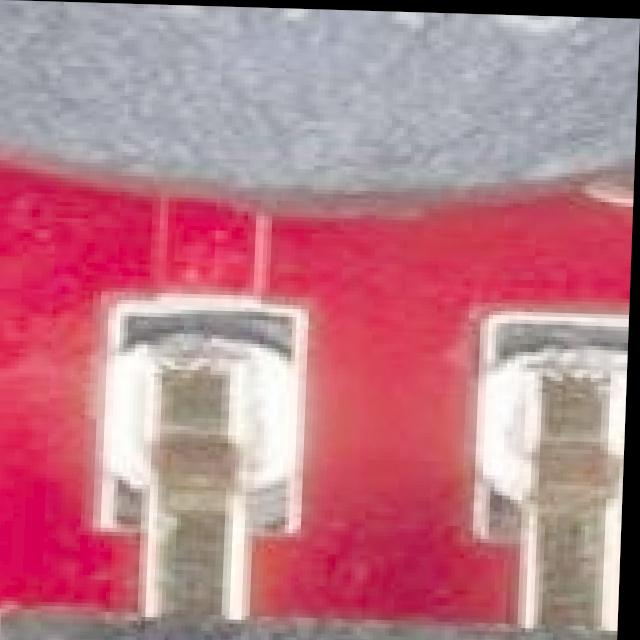buzzer: (0, 0, 640, 203)
connector: (0, 404, 628, 640)
